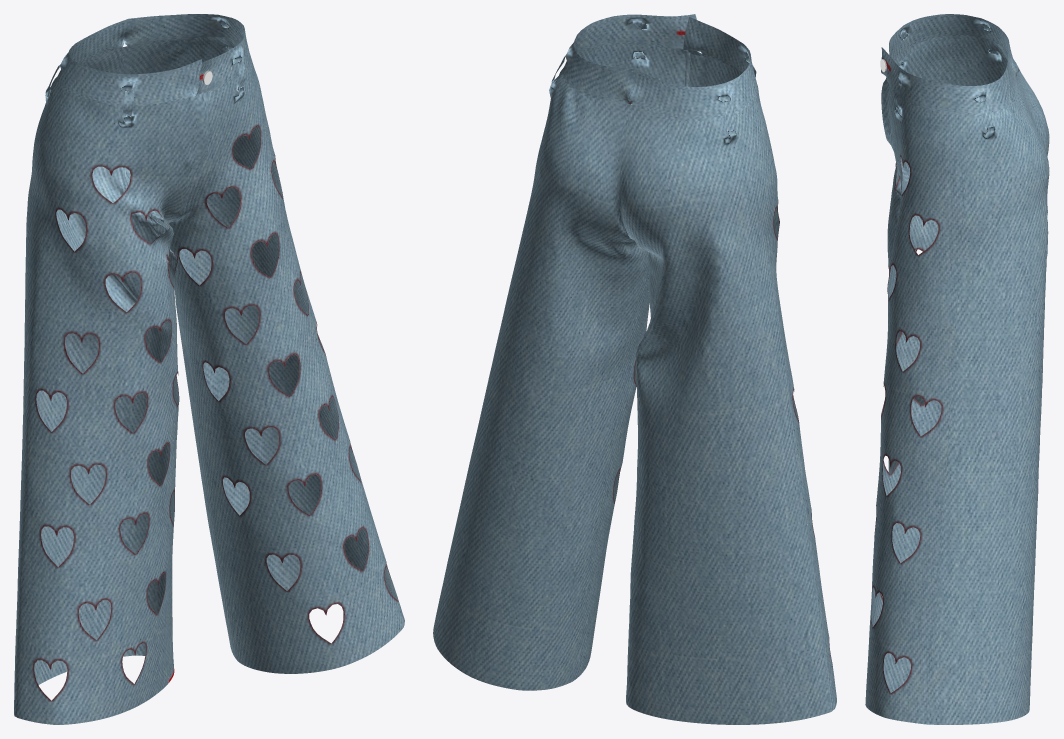
3 renders of one model, left to right at view 1: azimuth 30°, elevation 25°; view 2: azimuth 150°, elevation 25°; view 3: azimuth 270°, elevation 25°, orthographic. The views are drawn at different scales.
Parts seen in each view (by area): view 1: Model_2; view 2: Model_2; view 3: Model_2.
Part boxes in pixels (left/top/right/bottom): Model_2: left=14, top=14, right=404, bottom=724; Model_2: left=433, top=14, right=836, bottom=724; Model_2: left=865, top=14, right=1049, bottom=724.
Size of the model in its own units: 5.83 by 9.59 by 2.62.
2 materials, 1 textured.
